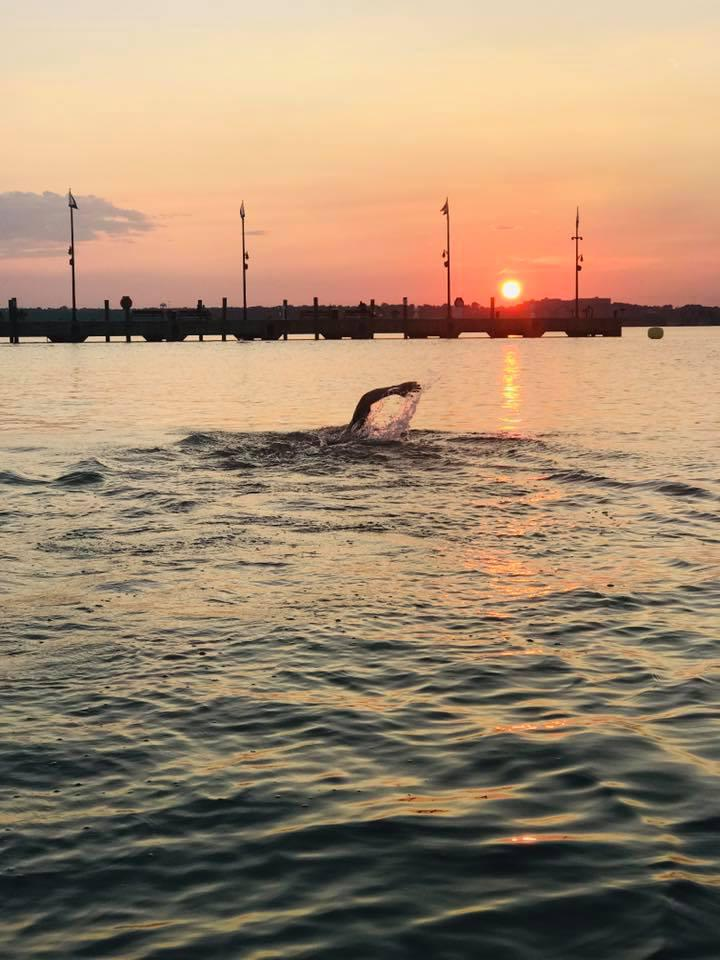human: (342, 372, 420, 449)
